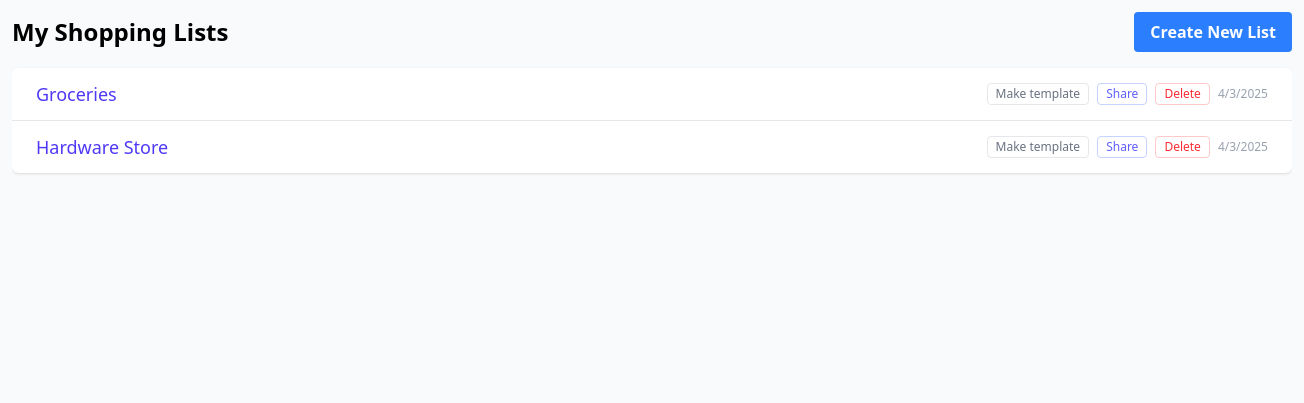
Test case: ShoppingListsPage Component › should display an error when adding a list fails with validation error (400)
The image size is (1304, 403).
Expected: the link "Groceries" is shown, left=36, top=80, right=117, bottom=108
Click the button "Create New List": click(1213, 32) left=1134, top=12, right=1292, bottom=52
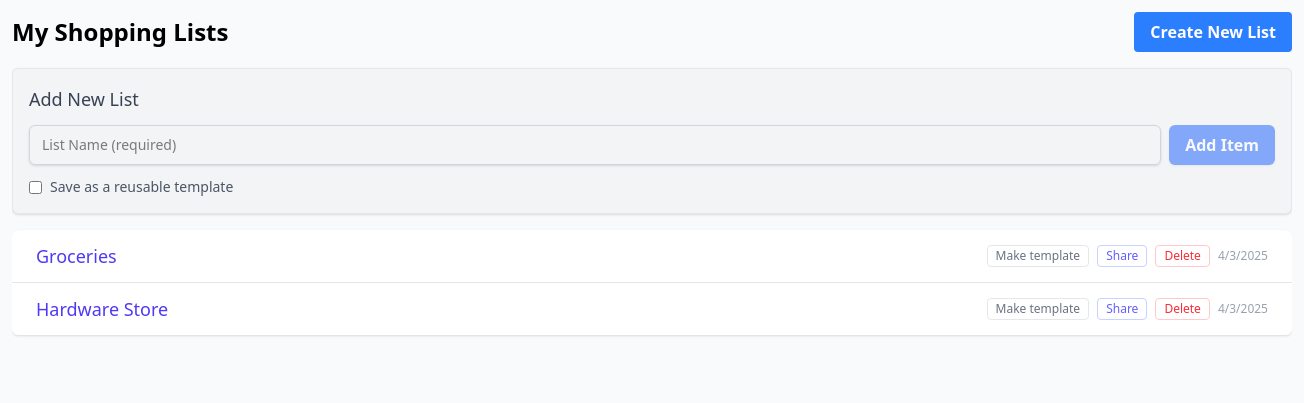
Note: Fill in the form
In the field named "New list name": (595, 145) left=29, top=125, right=1161, bottom=165, type "Invalid List"
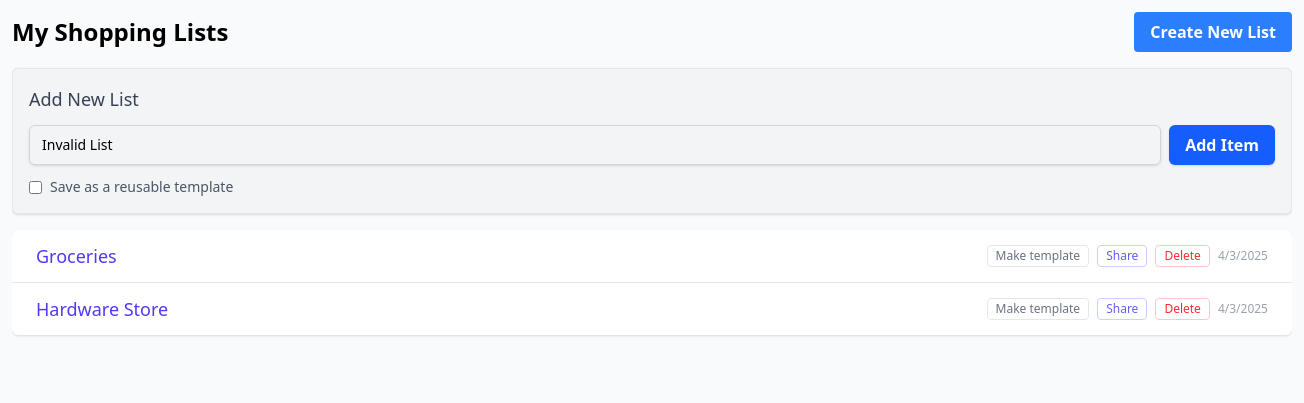
Note: Submit the form
Click the button "Add Item": click(1222, 145) left=1169, top=125, right=1275, bottom=165
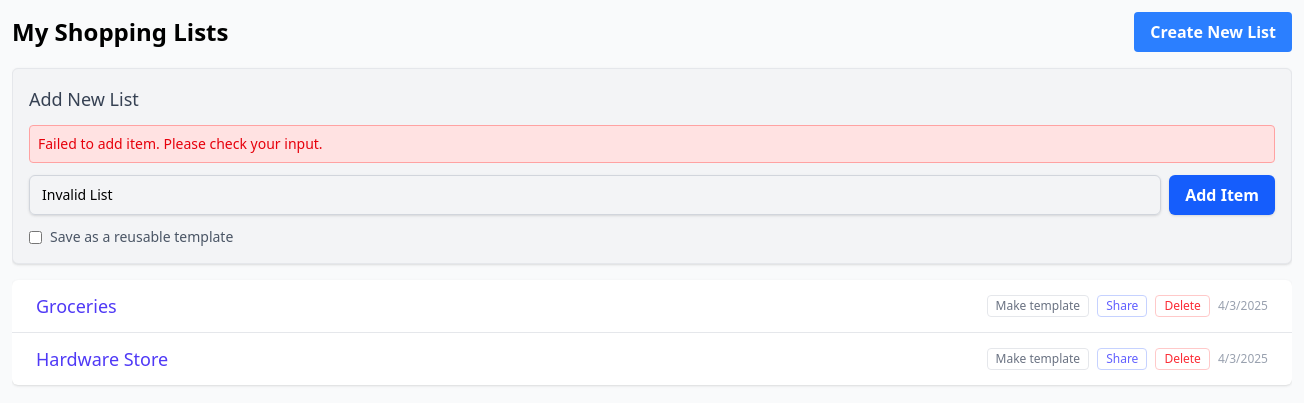
Expected: the text "Failed to add item. Please check your input." is shown, left=29, top=125, right=1275, bottom=163
